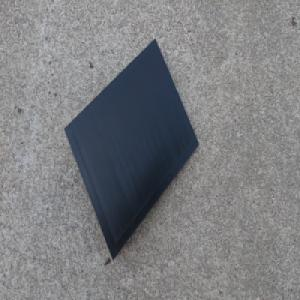PlasticPart: (63, 37, 199, 261)
